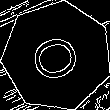O_E: (26, 28, 88, 85)
